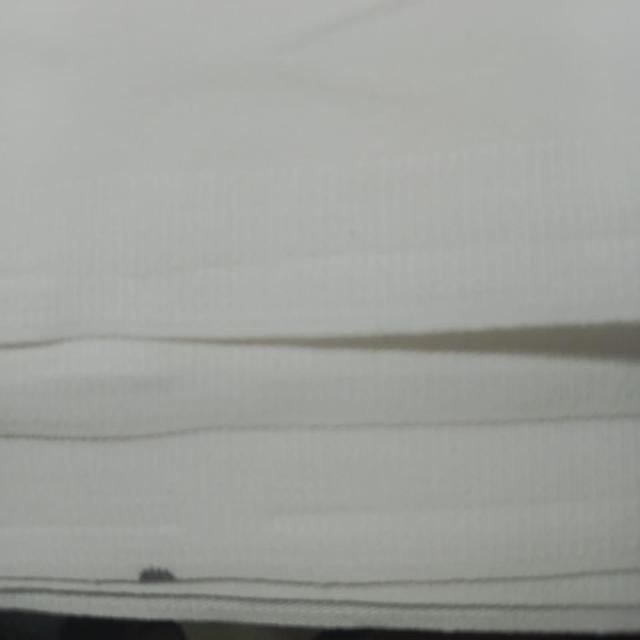stain: (133, 559, 191, 598)
